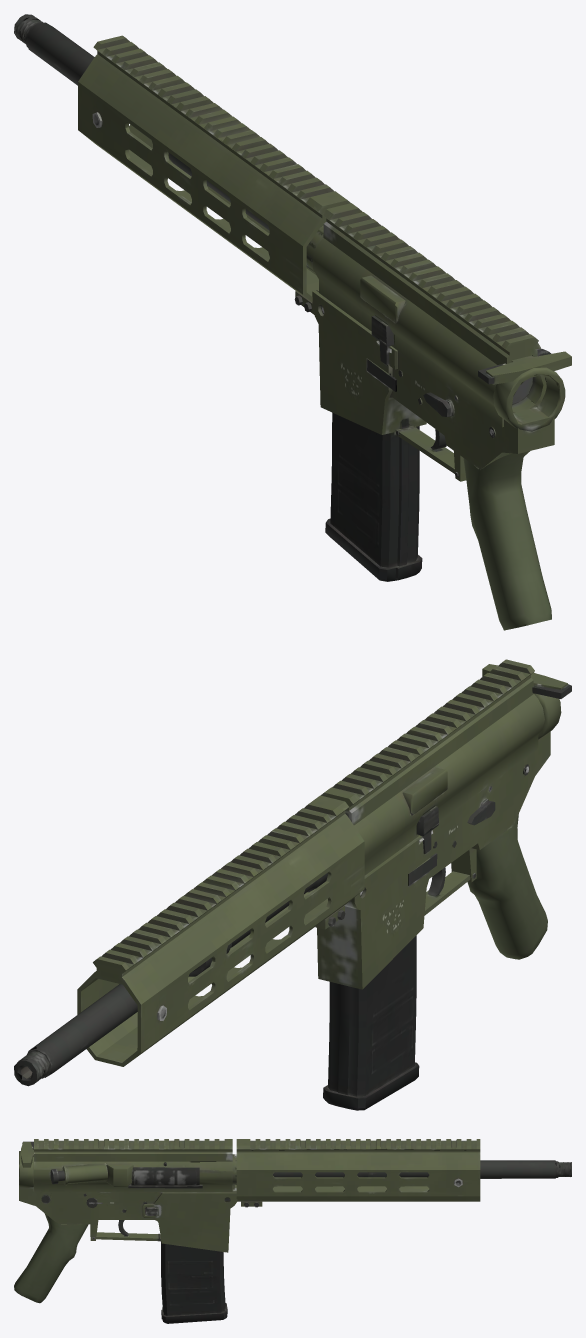
The model's file is fuzil_308_precisao_curto_leve.glb.
3 views of the same model, one above another, from view 1: azimuth 30°, elevation 25°; view 2: azimuth 150°, elevation 25°; view 3: azimuth 270°, elevation 25° (orthographic). The views are drawn at different scales.
Parts seen in each view (by area): view 1: fuzil_308_precisao_curto_leve; view 2: fuzil_308_precisao_curto_leve; view 3: fuzil_308_precisao_curto_leve.
Part boxes in pixels (left/top/right/bottom): fuzil_308_precisao_curto_leve: left=14, top=14, right=571, bottom=630; fuzil_308_precisao_curto_leve: left=14, top=659, right=571, bottom=1110; fuzil_308_precisao_curto_leve: left=14, top=1139, right=571, bottom=1323.
Size of the model in its own units: 0.0638 by 0.2138 by 0.6116.
Materials: 1 (1 with a texture image).
